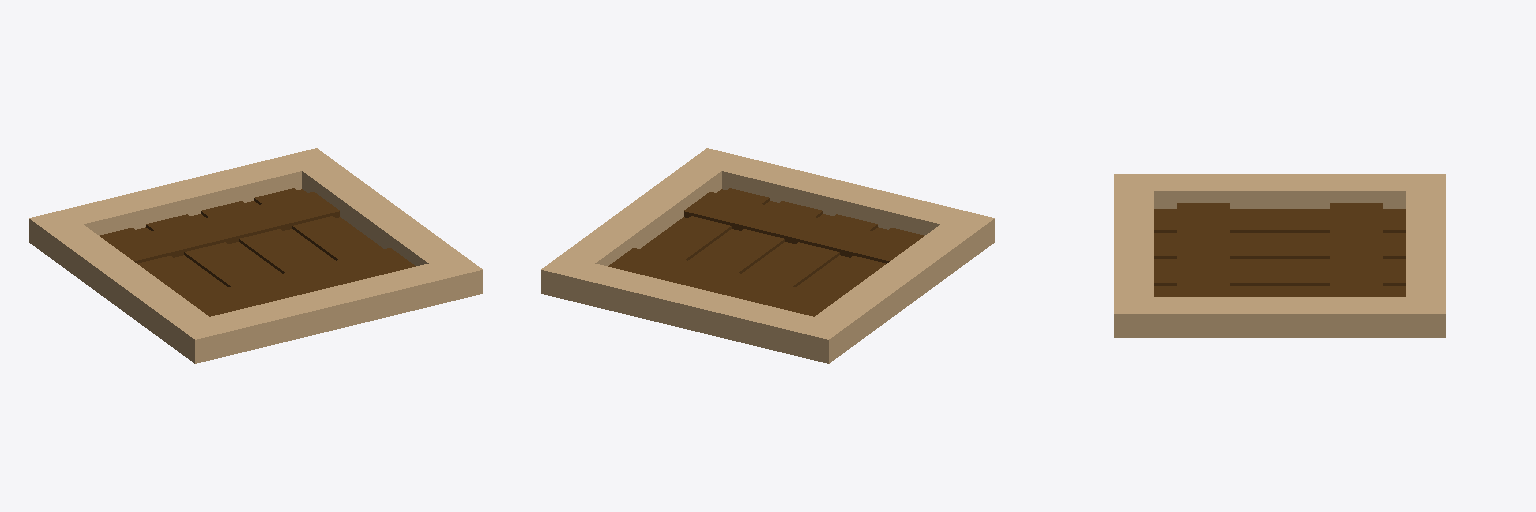
File: Trapdoor.obj
The picture shows the model from 3 angles: view 1: azimuth 30°, elevation 25°; view 2: azimuth 150°, elevation 25°; view 3: azimuth 270°, elevation 25°; orthographic projection.
Visible parts, largest first — view 1: Mesh1 Model; view 2: Mesh1 Model; view 3: Mesh1 Model.
Part boxes in pixels (left/top/right/bottom): Mesh1 Model: left=29, top=148, right=482, bottom=363; Mesh1 Model: left=541, top=148, right=994, bottom=363; Mesh1 Model: left=1114, top=174, right=1445, bottom=337.
Bounding box in the file's own units: 0.5 × 0.04 × 0.5.